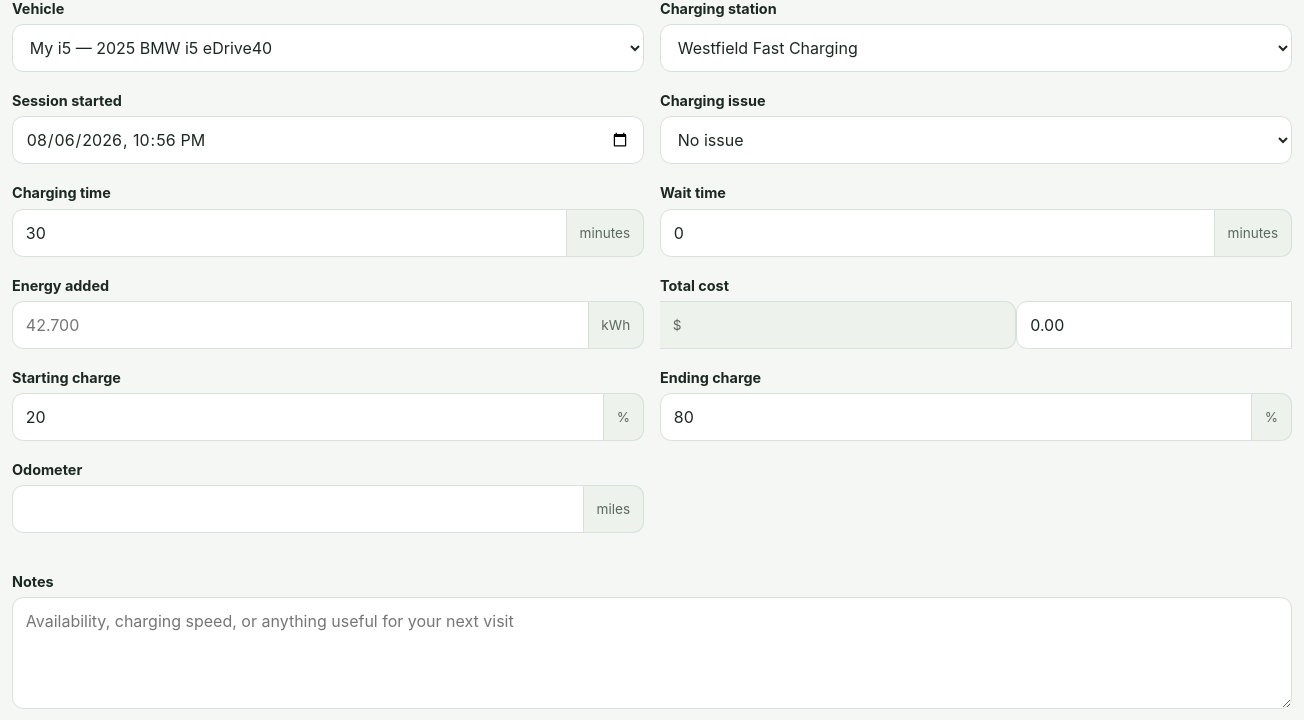
Test: charging-session form › rejects a complete form whose ending charge is not higher
This screenshot has width=1304, height=720.
Type "20" into the field labelled "Energy added".
click(300, 325); type("20")  # box [12,301,588,349]
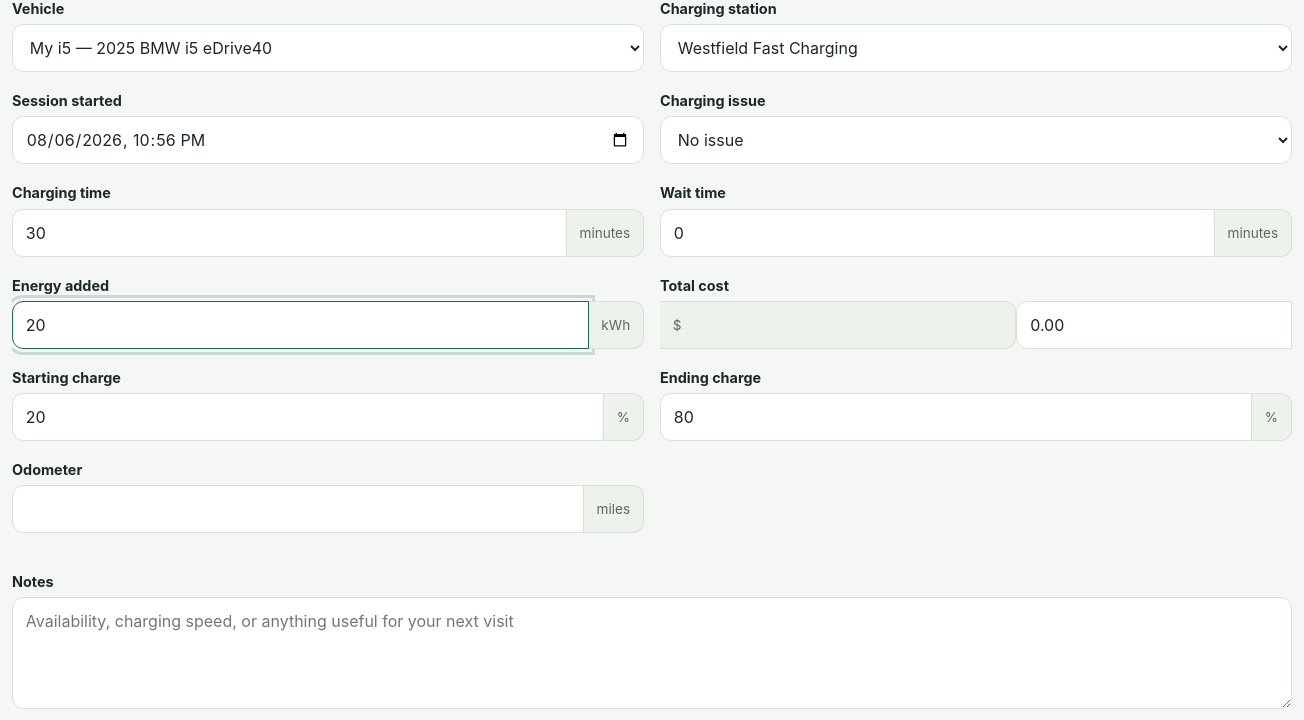
Replace the text in the number field labelled "Ending charge" with "10" at (956, 417), box [660,393,1252,441]
(page scrolled)
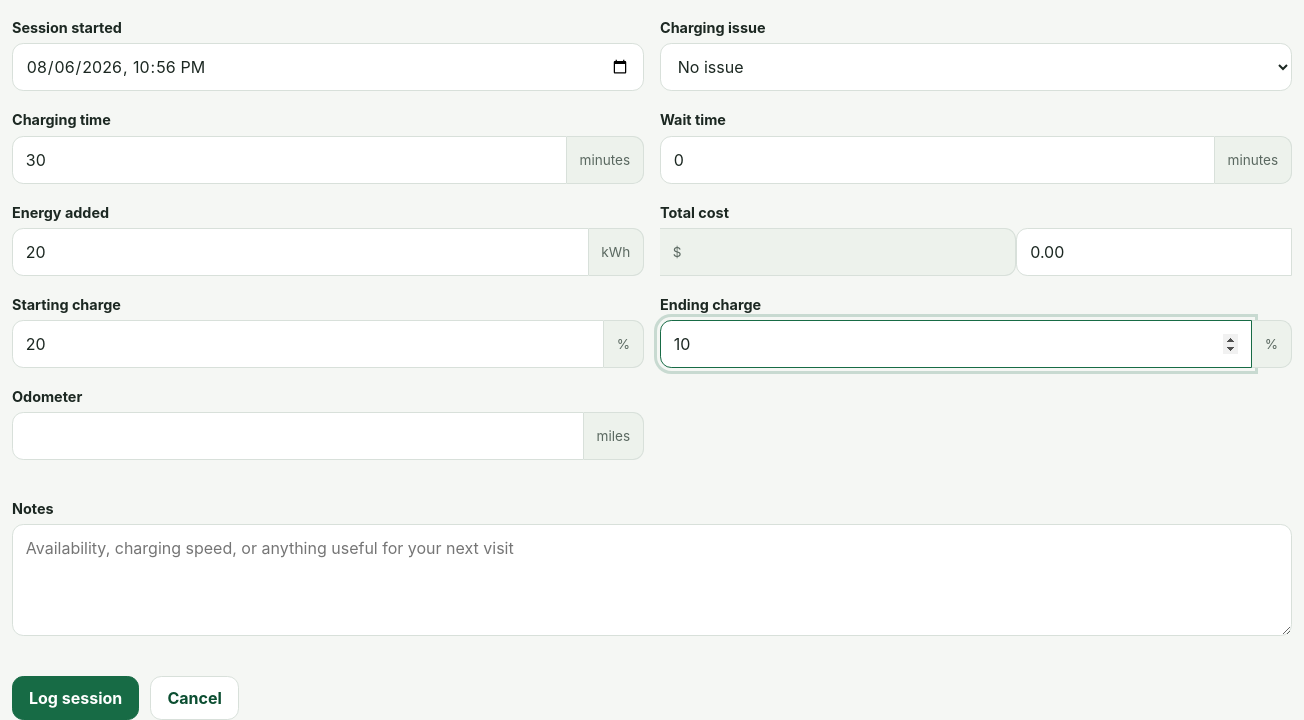
Click the button "Log session".
click(76, 698)  # box [12,676,139,719]
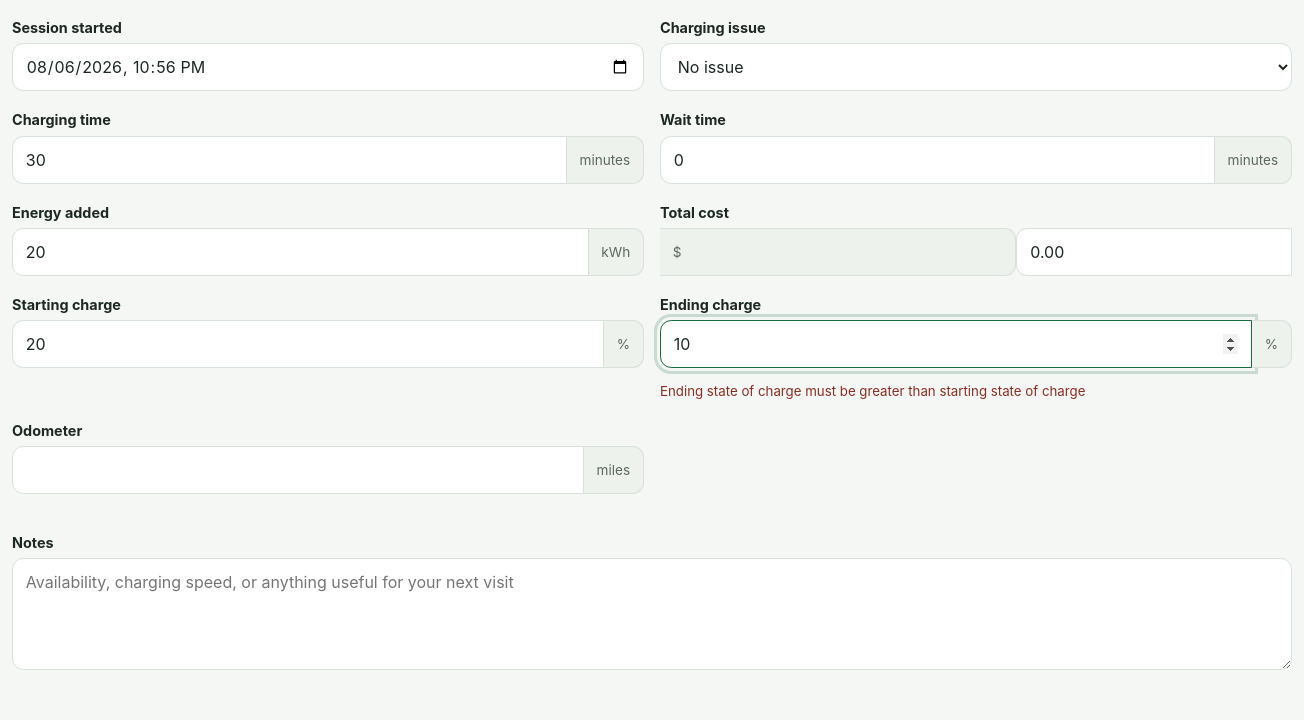
Expected: the text "Ending state of charge must be greater than starting state of charge" is shown, [660,383,1085,399]
